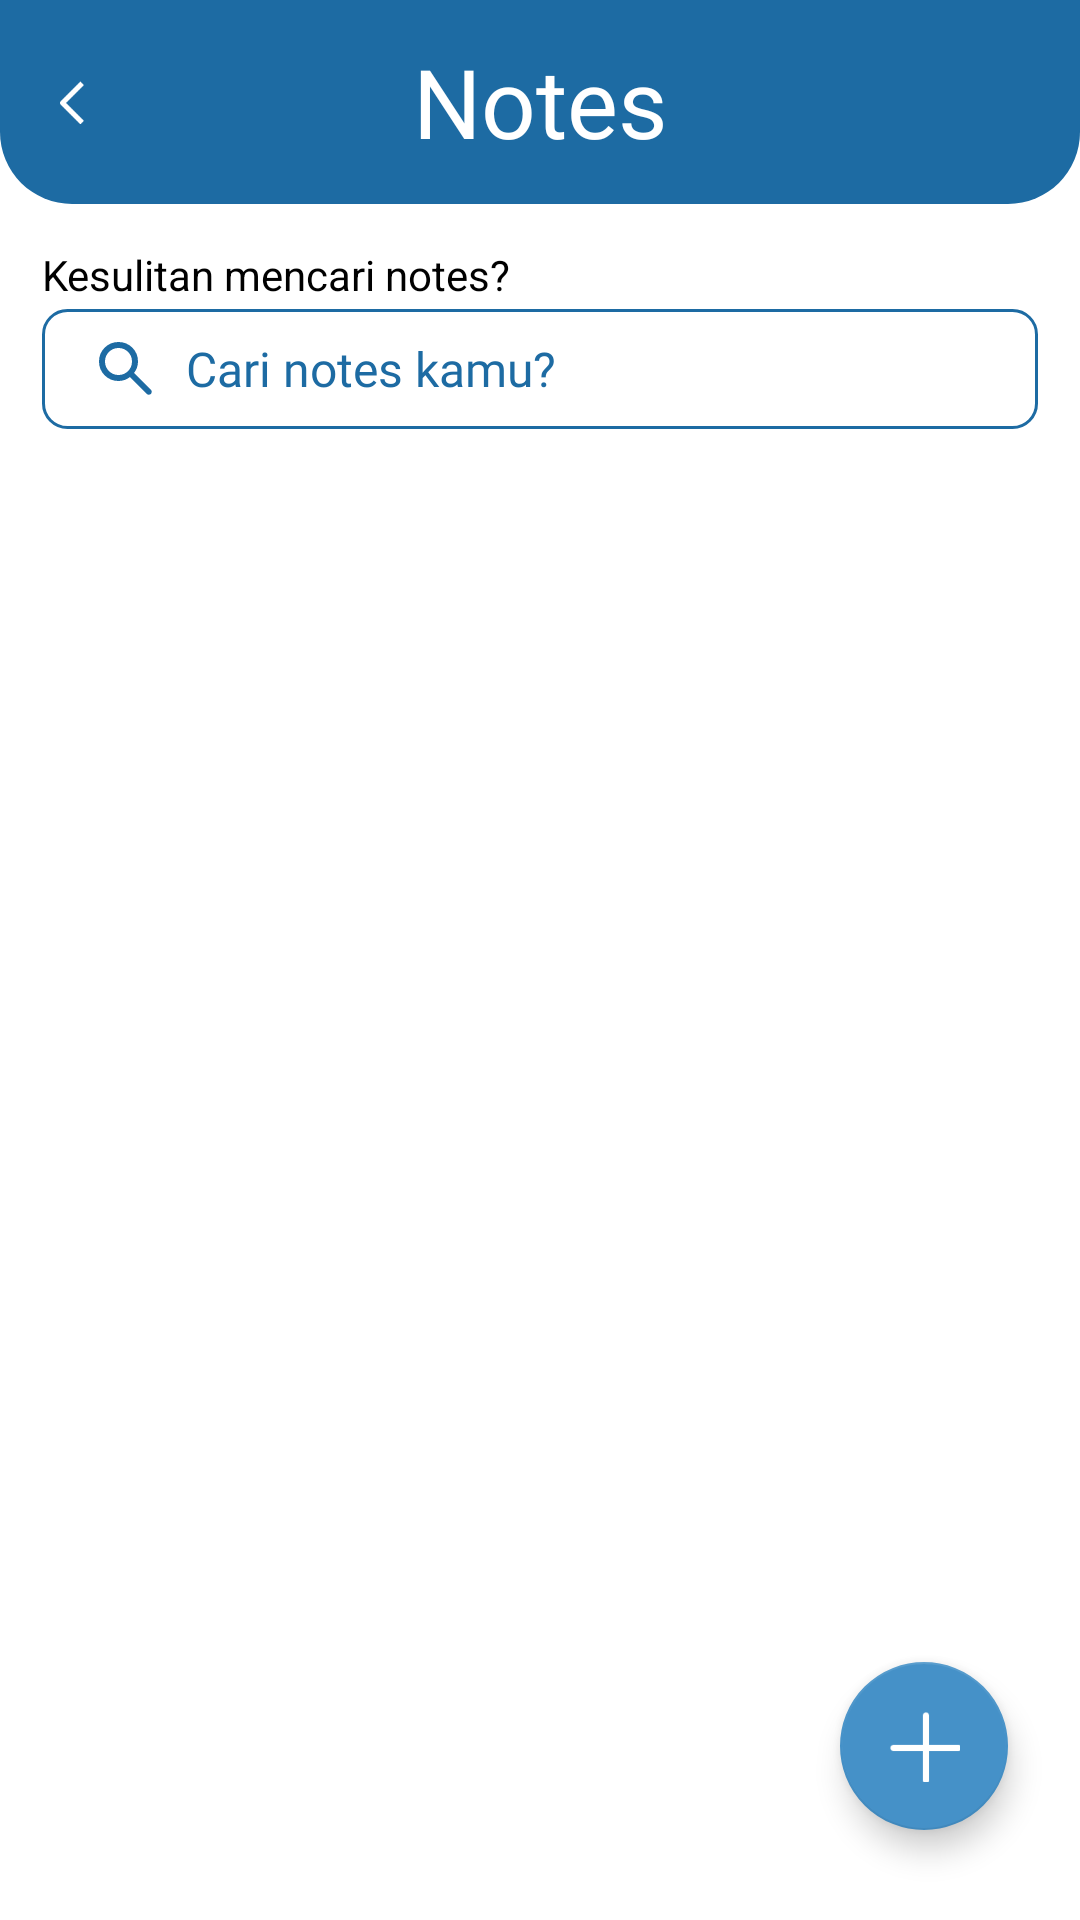

Screen size 1080 x 1920. Icon name, then its center in pixels as [x,y]:
Kembali: [72,102]
Tambah notes: [924,1746]
